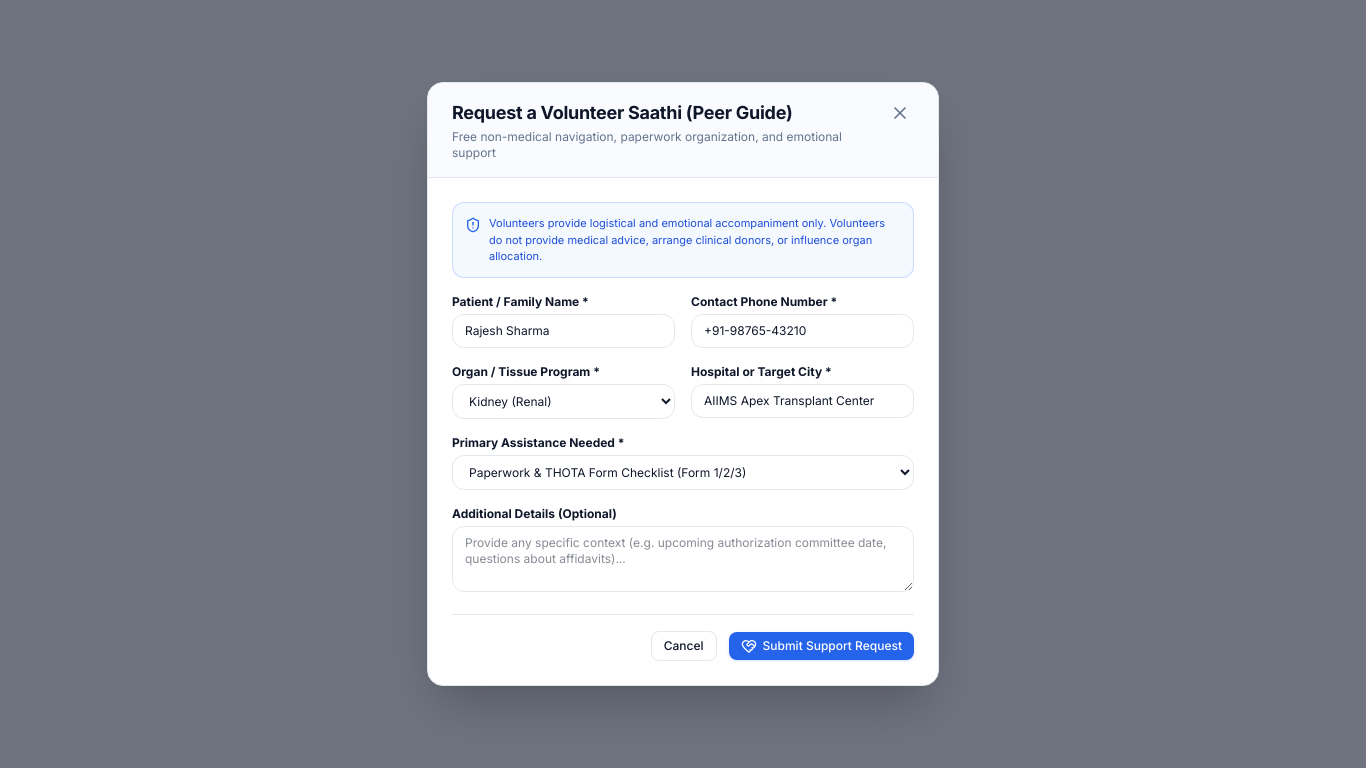
Scenario: RequestSupportModal & Dialog Stacking Suite › submits a valid volunteer request and displays confirmation state
Click the button "Submit Support Request" at x=821, y=646, box [729,632,914,660]
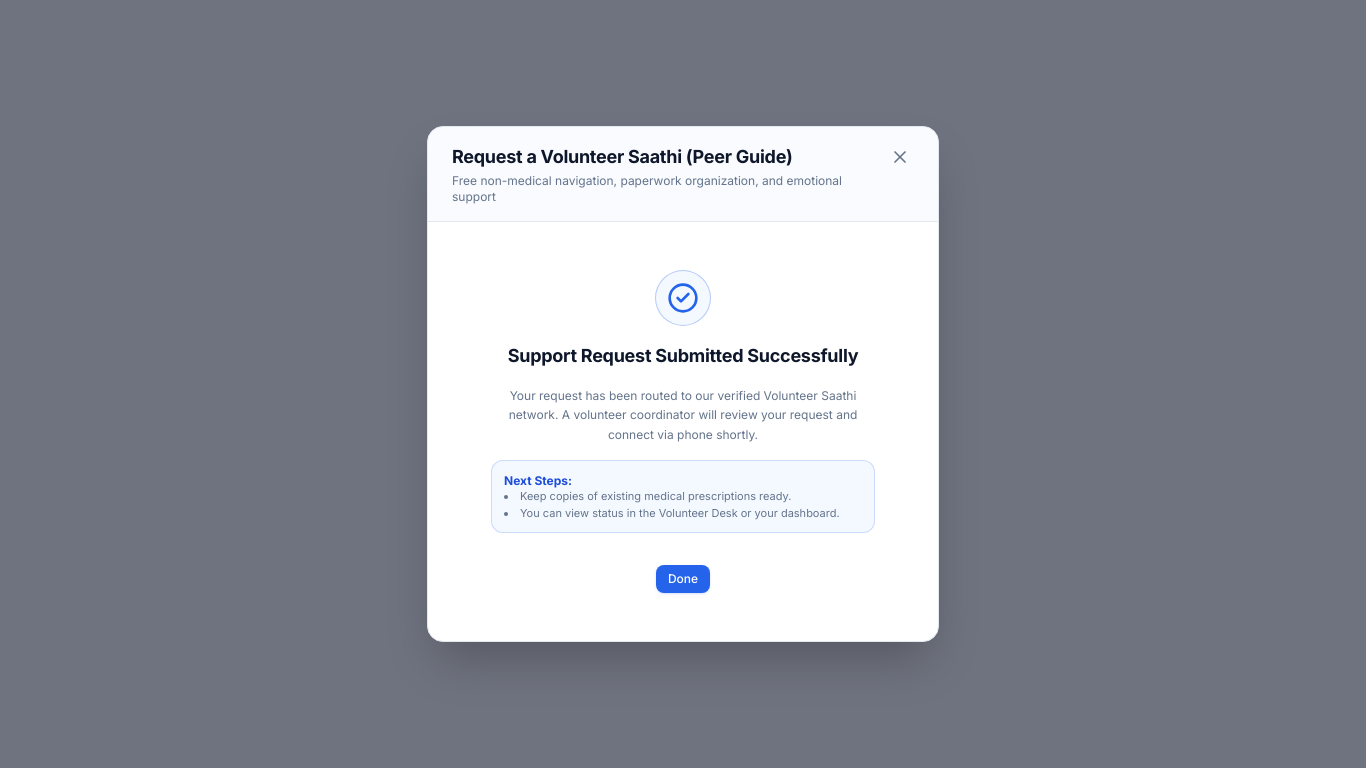
Check: the heading "Support Request Submitted Successfully" is shown, box [508,345,858,366]
